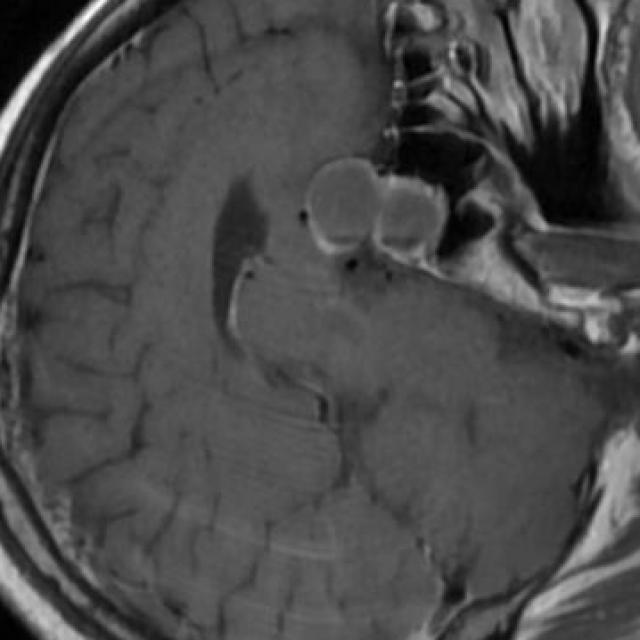pituitary: (307, 162, 444, 251)
